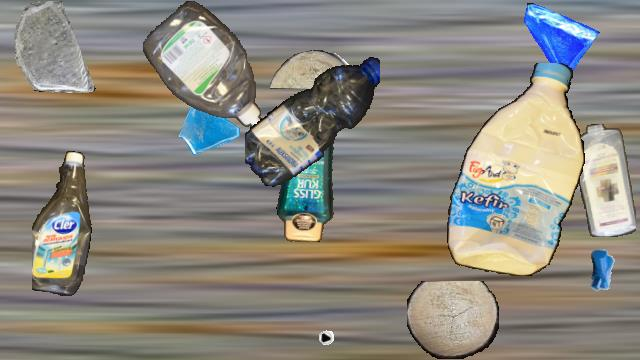glass: (9, 1, 101, 93), (518, 1, 600, 83), (177, 94, 243, 160)
metal: (572, 241, 634, 303), (281, 290, 341, 350)
plastic: (443, 63, 585, 275), (245, 50, 379, 190), (143, 1, 263, 131), (272, 99, 344, 241), (32, 151, 92, 295), (575, 124, 635, 236)
wood: (407, 281, 499, 359), (270, 50, 354, 88)
